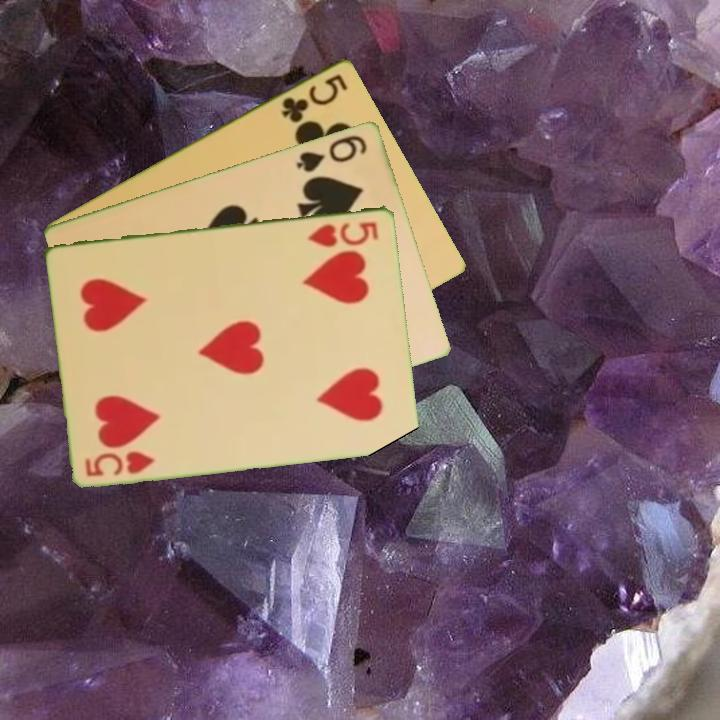5c: (277, 70, 351, 125)
5h: (305, 217, 382, 249), (82, 447, 158, 479)
6s: (293, 131, 371, 175)
